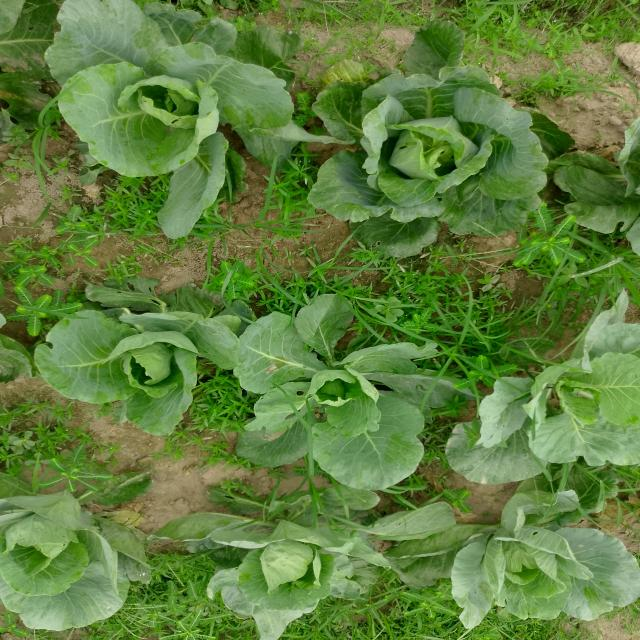Cabbage: (40, 0, 296, 232), (304, 30, 558, 242), (228, 298, 490, 497), (169, 500, 433, 640), (5, 295, 237, 439), (451, 310, 640, 486), (442, 482, 637, 640), (0, 485, 163, 640), (564, 117, 640, 253)
